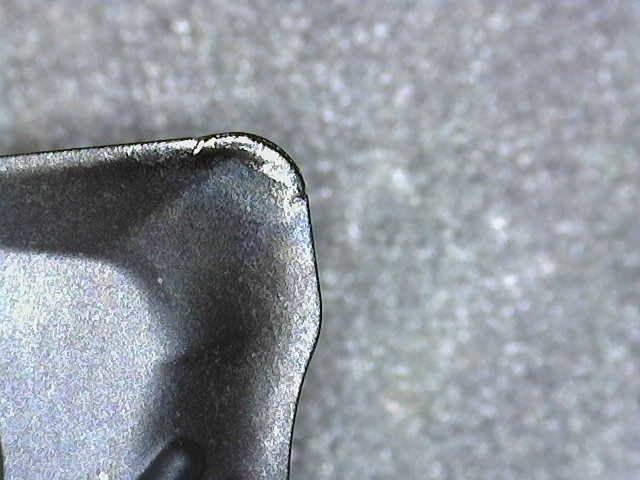normal: (280, 204, 324, 480), (1, 139, 196, 181)
wear: (169, 131, 307, 210)
